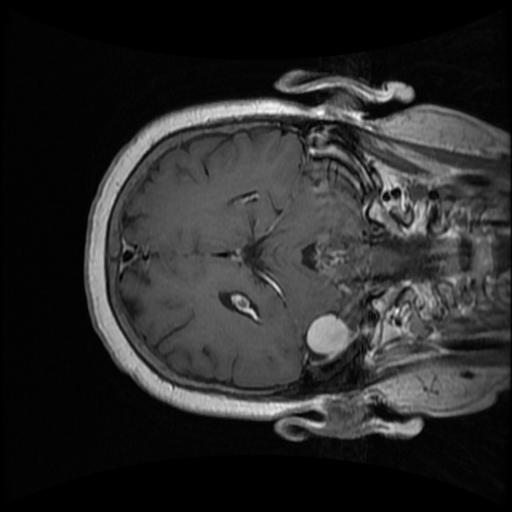meningioma: (305, 314, 351, 355)
